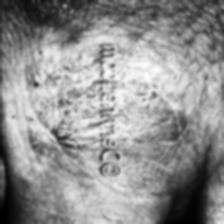Non-Cancerous Skin Condition: (23, 80, 99, 142), (123, 64, 169, 98)
